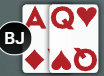a: (24, 5, 48, 33)
q: (50, 5, 77, 32)
